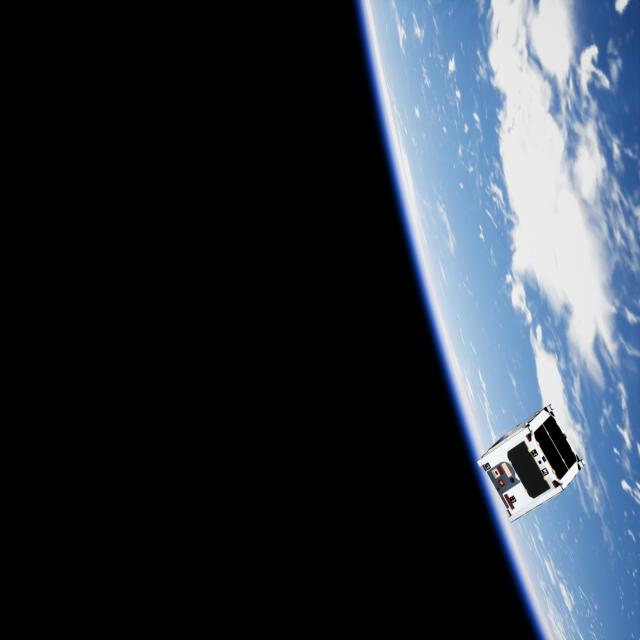medium_debris: (473, 402, 591, 526), (507, 454, 511, 474), (533, 506, 535, 511)
